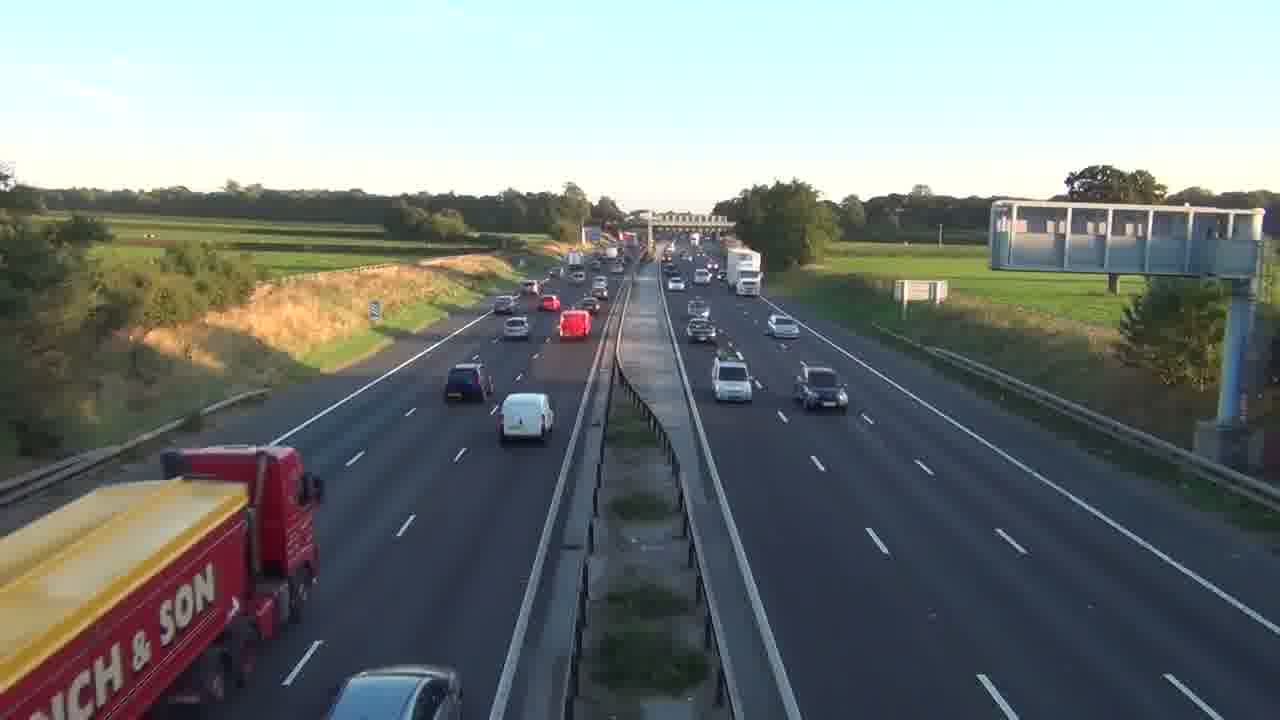car: (325, 664, 464, 719), (499, 392, 556, 444), (795, 365, 849, 411), (711, 356, 754, 403), (444, 364, 486, 402), (766, 311, 801, 339), (685, 316, 716, 343), (503, 316, 531, 340)
truck: (1, 442, 322, 714)
